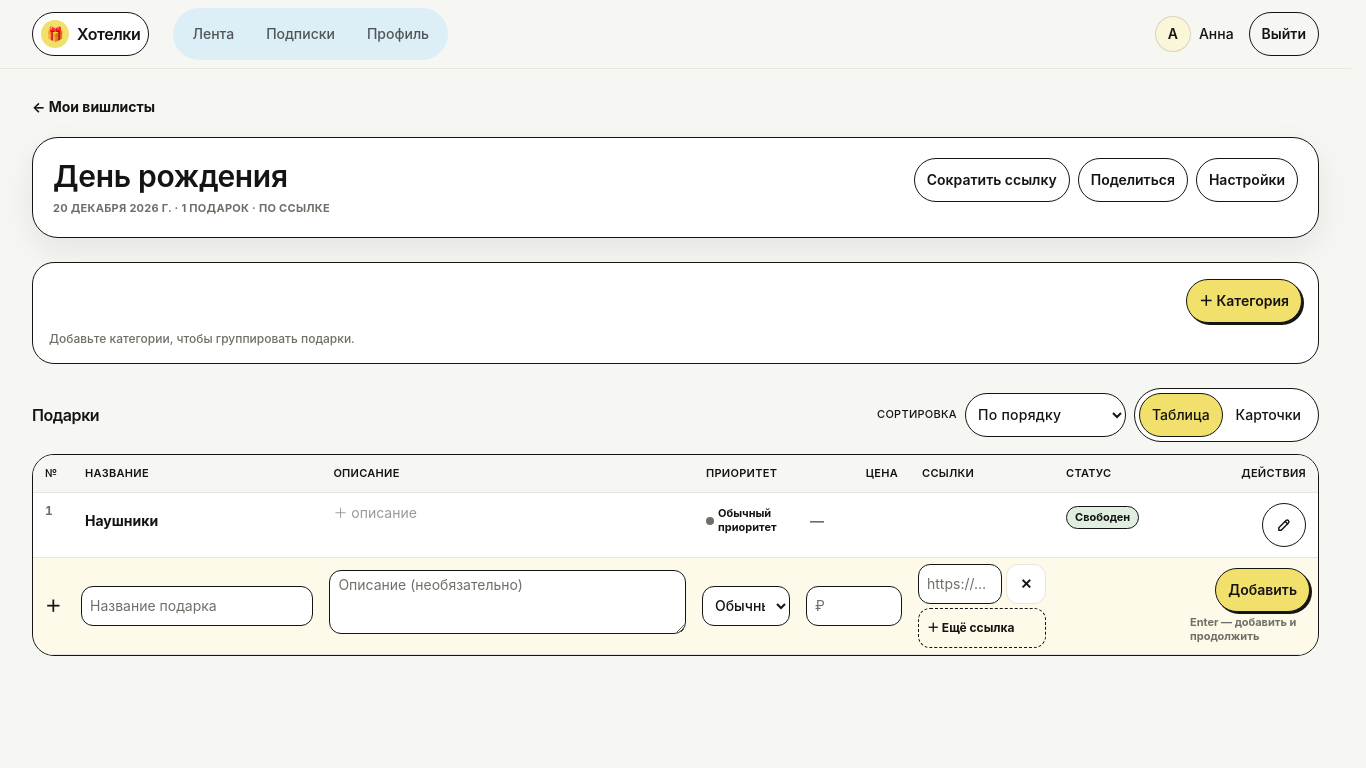
it: строка добавления в таблице › описание вводится в общей строке добавления и уходит в POST
Expected: the text "Наушники" is shown, [85,511,158,531]
Type "Термокружка" into the field named "Название нового подарка" at (197,606), box [81,586,313,626]
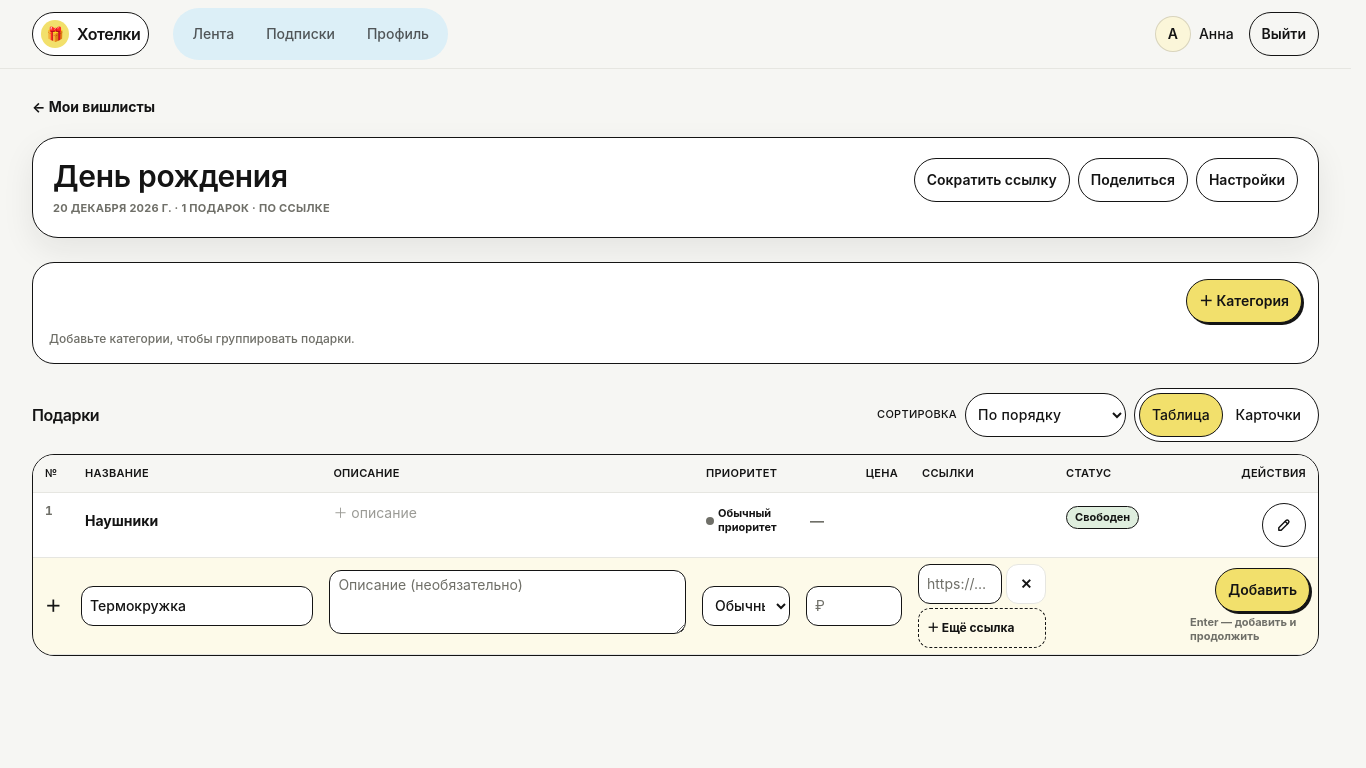
Type "Белая, 500 мл" into the text box named "Описание нового подарка" at (508,602), box [329,570,686,634]
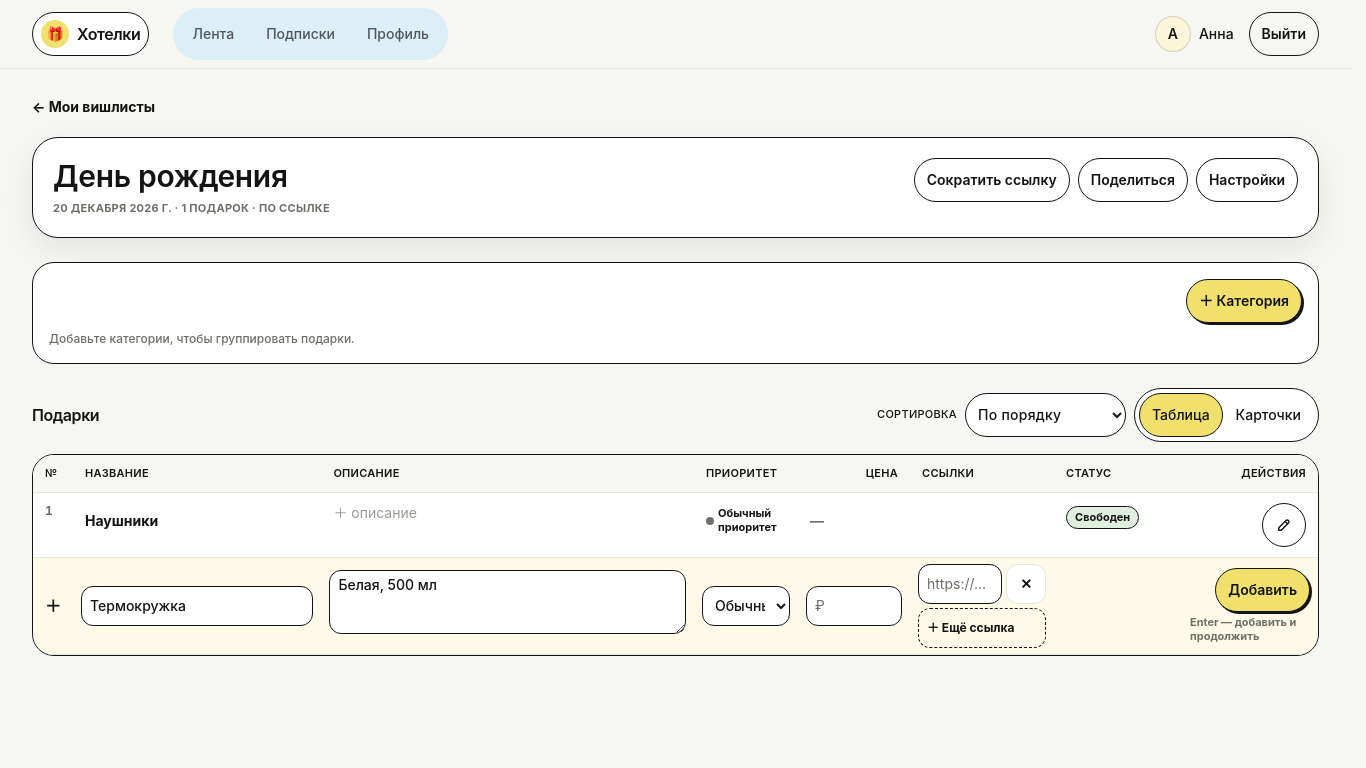
Click the button "Добавить" at (1263,590), box [1215,568,1310,612]
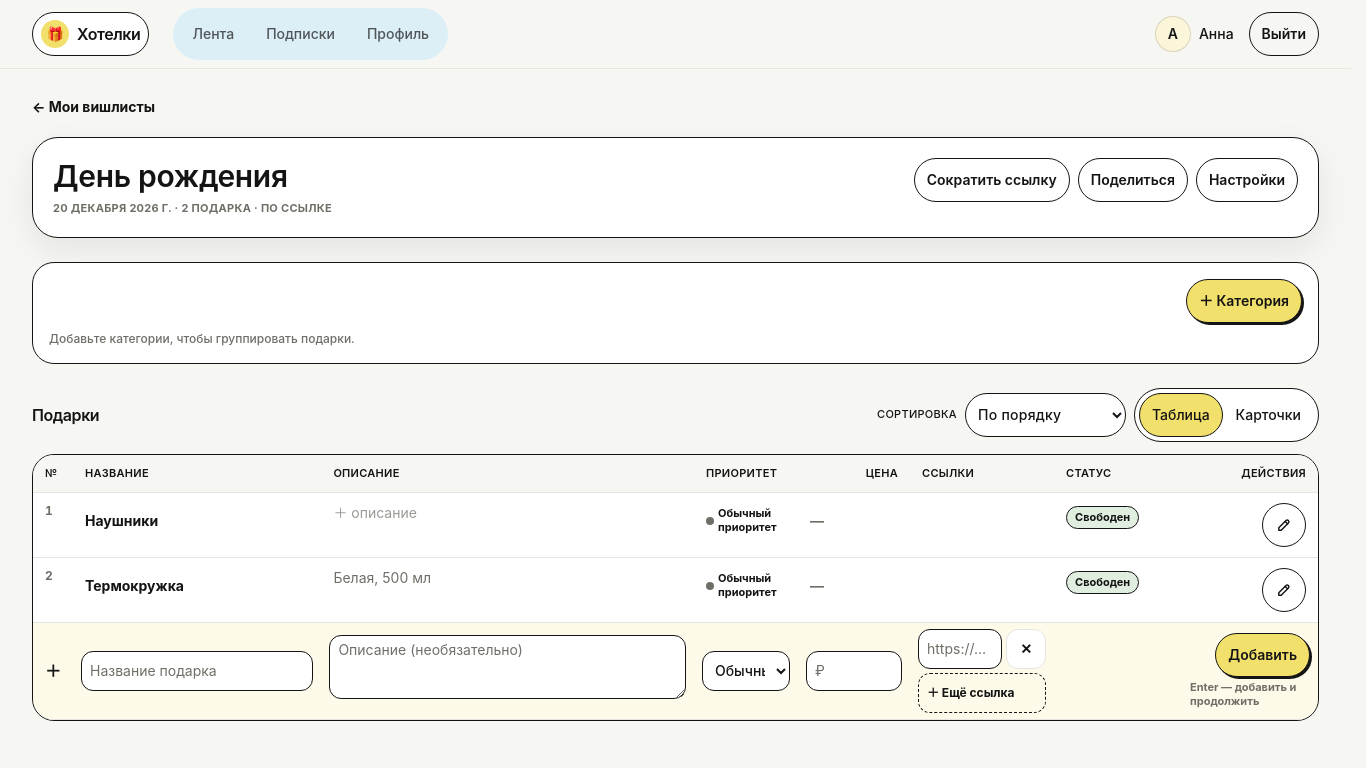
Expected: the text "Термокружка" is shown, [85,576,184,596]
Expected: the text "Белая, 500 мл" is shown, [333,568,431,588]
